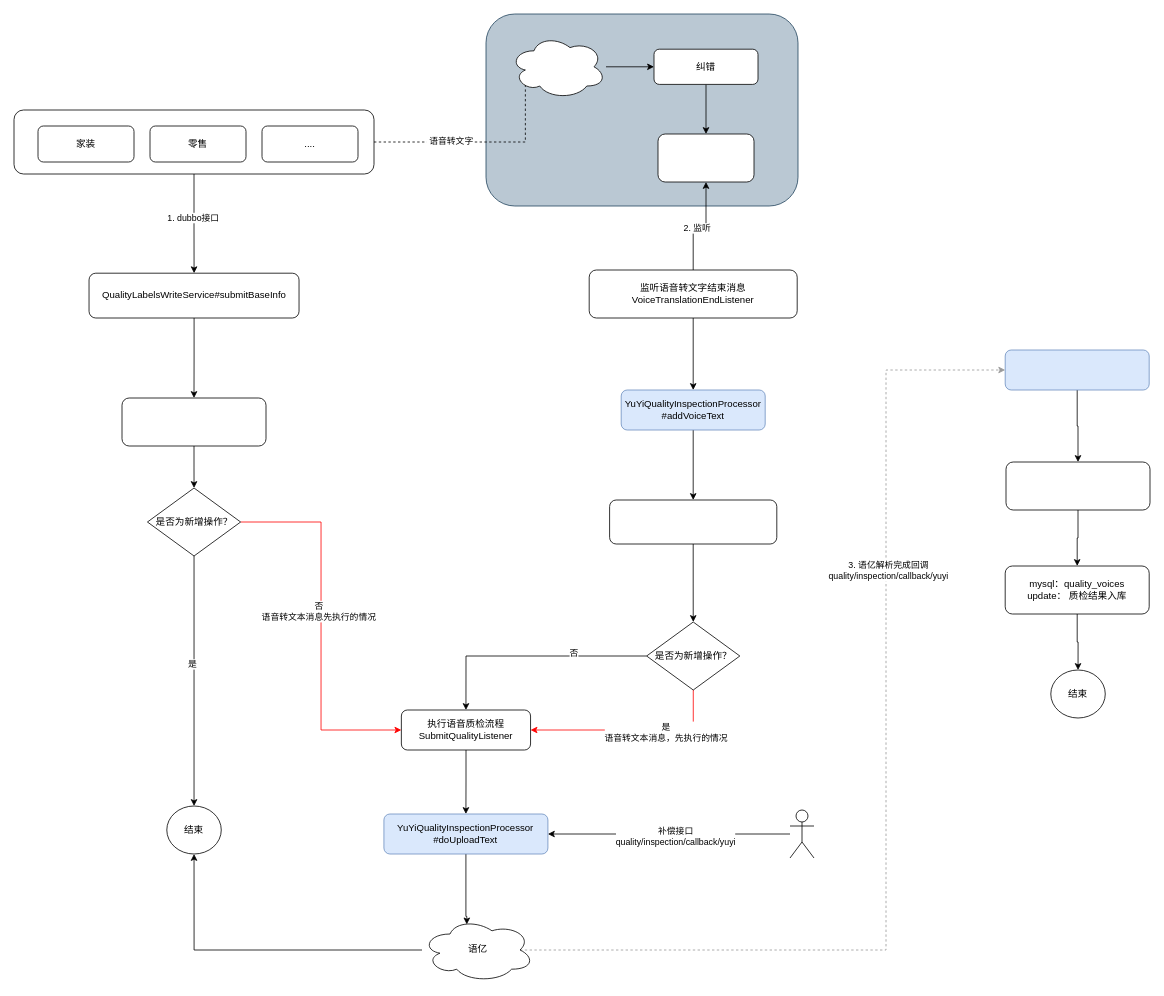
This 1164x996 diagram has some shape labels left out. Here are the shapes that lost their labels. From the top down, the centre of each, then its label:
At point 557,66: "讯飞".
At point 705,157: "mq".
At point 1076,369: "YuYiQualityInspectionProcessor #receiveCallBackData".
At point 193,421: "mysql：quality_voices insertorUpdate： 语音记录入库".
At point 1077,485: "发送质检完成MQ".
At point 693,521: "mysql：quality_voices insertorUpdate ： 语音文本入库".
At point 801,833: "手动执行".
